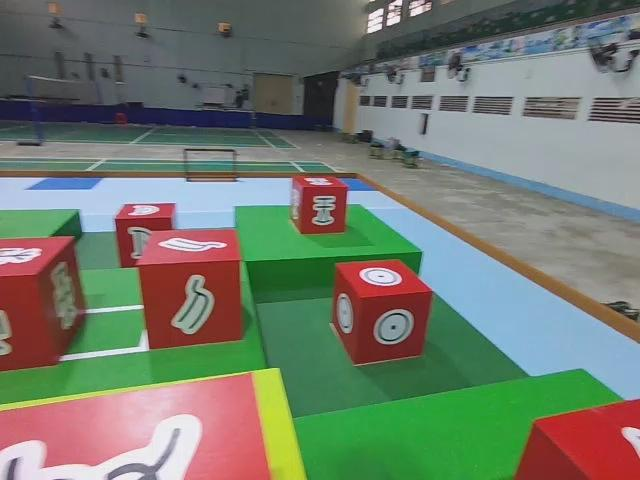R2 Real: (134, 226, 245, 351), (0, 233, 89, 374), (328, 254, 435, 367), (113, 199, 179, 270), (288, 170, 350, 236)
